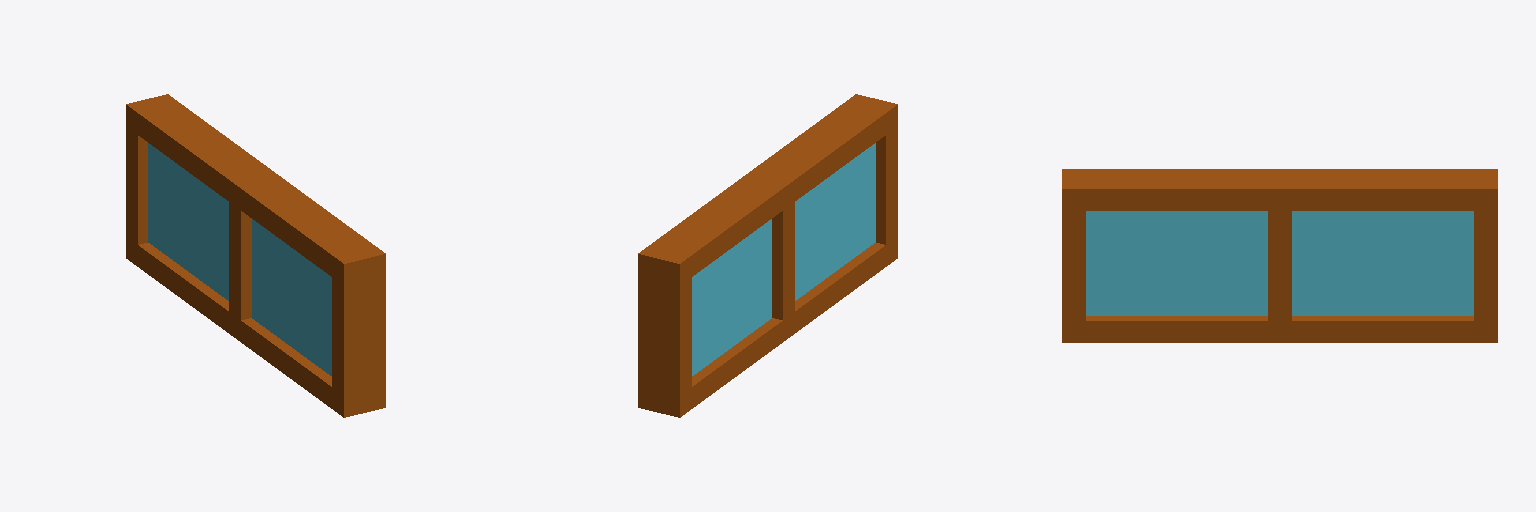
The picture shows the model from 3 angles: view 1: azimuth 30°, elevation 25°; view 2: azimuth 150°, elevation 25°; view 3: azimuth 270°, elevation 25°; orthographic projection.
Visible parts, largest first — view 1: Box003, Box007, Box006, Box001, Box002, Box005, Box004; view 2: Box003, Box006, Box007, Box001, Box004, Box005, Box002; view 3: Box006, Box007, Box003, Box001, Box002, Box004, Box005.
Boxes of the visible parts, x1=… form: Box003: x1=126, y1=94, x2=385, y2=285; Box007: x1=148, y1=143, x2=228, y2=300; Box006: x1=252, y1=219, x2=331, y2=375; Box001: x1=126, y1=237, x2=385, y2=417; Box002: x1=332, y1=276, x2=385, y2=395; Box005: x1=229, y1=202, x2=251, y2=319; Box004: x1=126, y1=127, x2=147, y2=244; Box003: x1=638, y1=94, x2=897, y2=285; Box006: x1=795, y1=143, x2=875, y2=300; Box007: x1=692, y1=219, x2=771, y2=375; Box001: x1=638, y1=237, x2=897, y2=417; Box004: x1=638, y1=276, x2=691, y2=395; Box005: x1=772, y1=202, x2=794, y2=319; Box002: x1=876, y1=127, x2=897, y2=244; Box006: x1=1086, y1=211, x2=1267, y2=315; Box007: x1=1292, y1=211, x2=1473, y2=315; Box003: x1=1062, y1=169, x2=1497, y2=210; Box001: x1=1062, y1=316, x2=1497, y2=342; Box002: x1=1062, y1=211, x2=1085, y2=320; Box004: x1=1474, y1=211, x2=1497, y2=320; Box005: x1=1268, y1=211, x2=1291, y2=320.
Size of the model in its own units: 2 by 7 by 18.
2 materials, 2 textured.